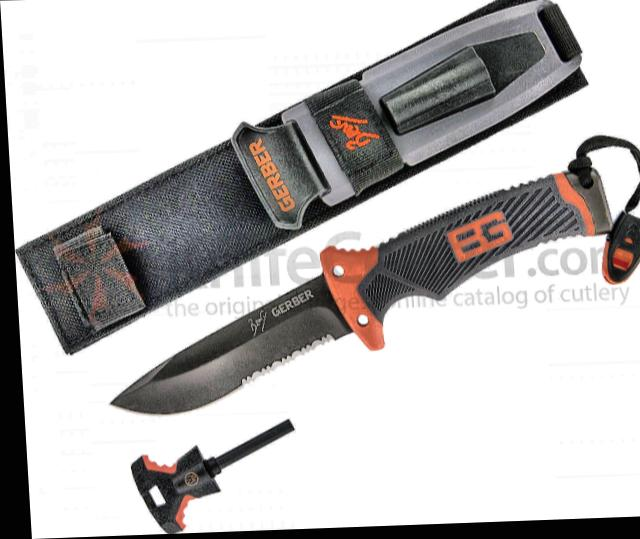knife: (90, 277, 357, 429)
